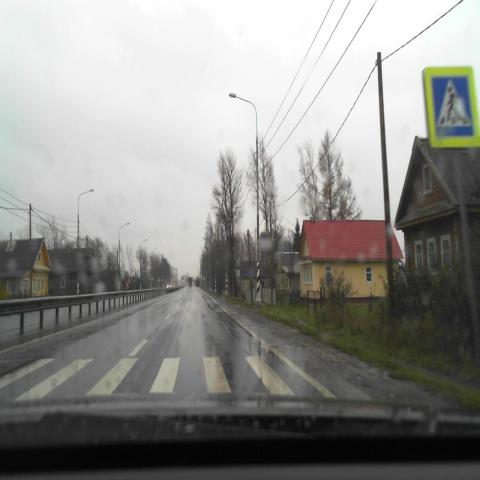5_19_1: (422, 67, 480, 148)
